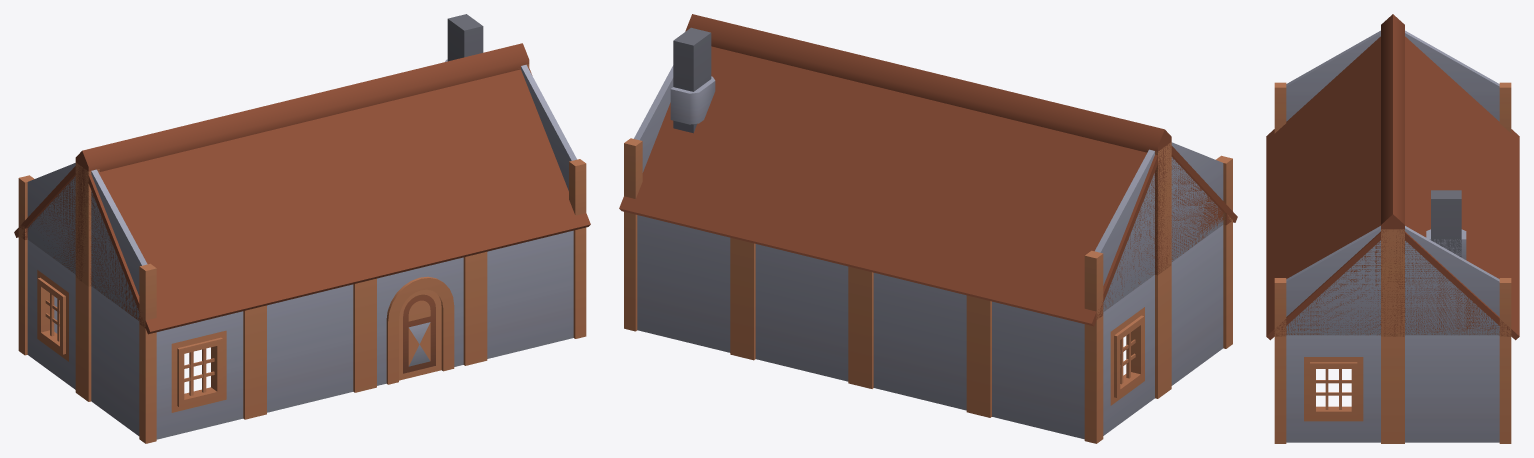
File: maison-village-2.glb
3 views of the same model, side by side, from view 1: azimuth 30°, elevation 25°; view 2: azimuth 150°, elevation 25°; view 3: azimuth 270°, elevation 25° (orthographic). The views are drawn at different scales.
Parts seen in each view (by area): view 1: roof-high, wall-window-shutters; view 2: roof-high, wall-window-shutters; view 3: wall-window-shutters, roof-high.
Boxes of the visible parts, x1=… form: roof-high: x1=14, y1=43, x2=590, y2=334; wall-window-shutters: x1=18, y1=14, x2=586, y2=443; roof-high: x1=619, y1=14, x2=1237, y2=326; wall-window-shutters: x1=624, y1=27, x2=1232, y2=443; wall-window-shutters: x1=1274, y1=30, x2=1511, y2=443; roof-high: x1=1266, y1=14, x2=1519, y2=340.
Size of the model in its own units: 12 by 6.6 by 6.42.
2 materials, 1 textured.
